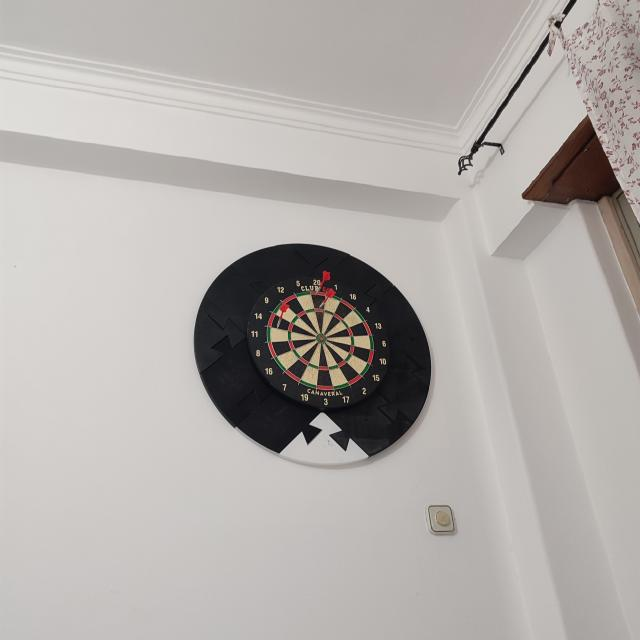dart: (318, 288, 336, 310), (318, 288, 336, 310), (276, 302, 290, 330), (315, 271, 330, 296), (315, 271, 330, 296), (277, 302, 289, 330)
